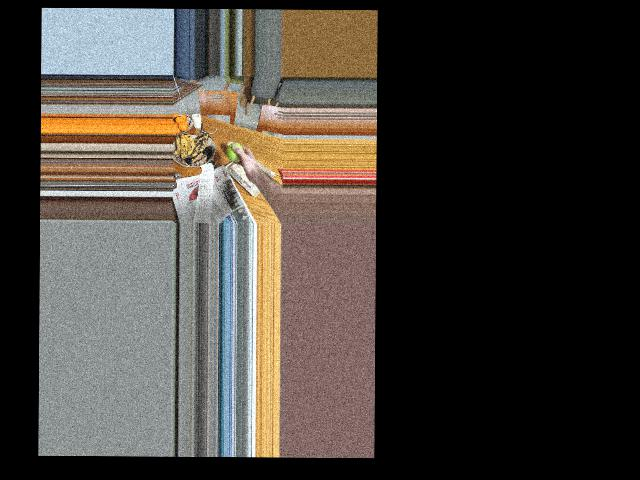apple: (226, 142, 244, 163)
